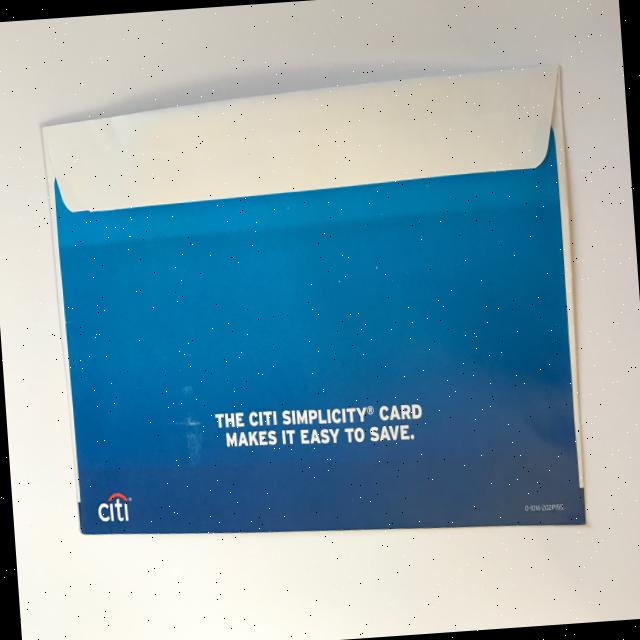paper: (40, 64, 592, 560)
